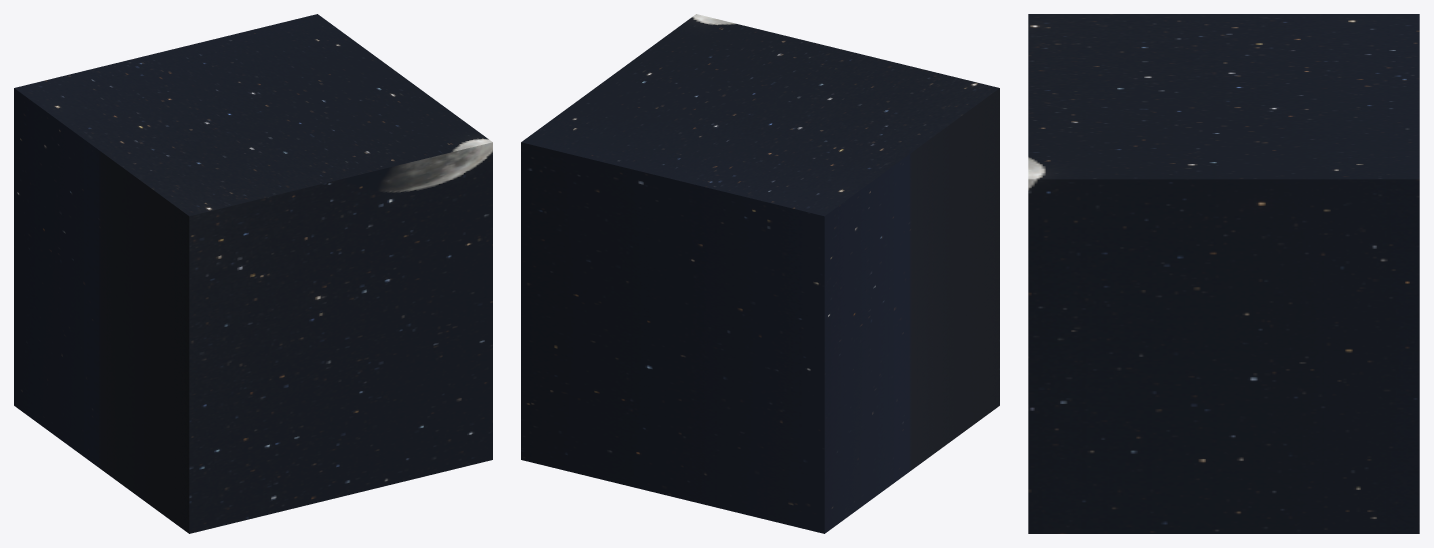
The model's file is Exterior.gltf.
3 views of the same model, side by side, from view 1: azimuth 30°, elevation 25°; view 2: azimuth 150°, elevation 25°; view 3: azimuth 270°, elevation 25° (orthographic). The views are drawn at different scales.
Visible parts, largest first — view 1: Cube.014; view 2: Cube.014; view 3: Cube.014.
Boxes of the visible parts, bbox=[...] form: Cube.014: bbox=[14, 14, 492, 533]; Cube.014: bbox=[521, 14, 999, 533]; Cube.014: bbox=[1028, 14, 1419, 533].
Bounding box in the file's own units: 74.53 × 74.53 × 74.53.
15 materials, 13 textured.
